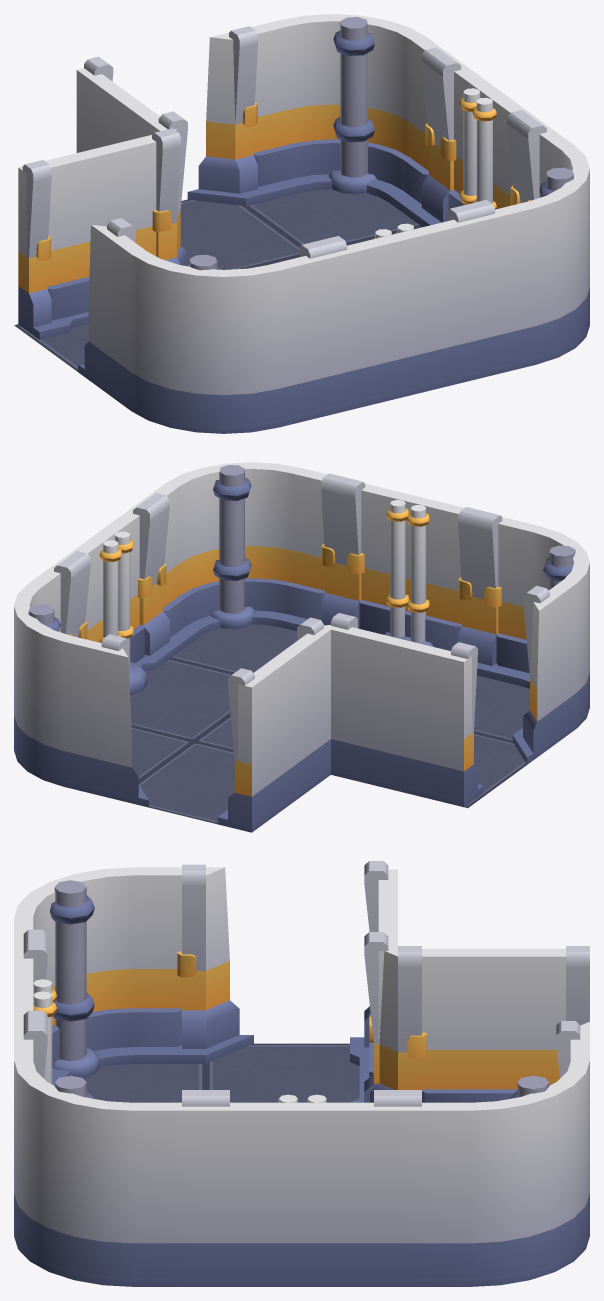
Rendered from kenney-space-room-corner.glb.
3 renders of one model, top to bottom at view 1: azimuth 30°, elevation 25°; view 2: azimuth 150°, elevation 25°; view 3: azimuth 270°, elevation 25°, orthographic. The views are drawn at different scales.
Visible parts, largest first — view 1: room-corner; view 2: room-corner; view 3: room-corner.
Part boxes in pixels (left/top/right/bottom): room-corner: left=14, top=14, right=589, bottom=433; room-corner: left=14, top=462, right=589, bottom=832; room-corner: left=14, top=861, right=589, bottom=1286.
Size of the model in its own units: 9 by 3.19 by 9.
Materials: 1 (1 with a texture image).
